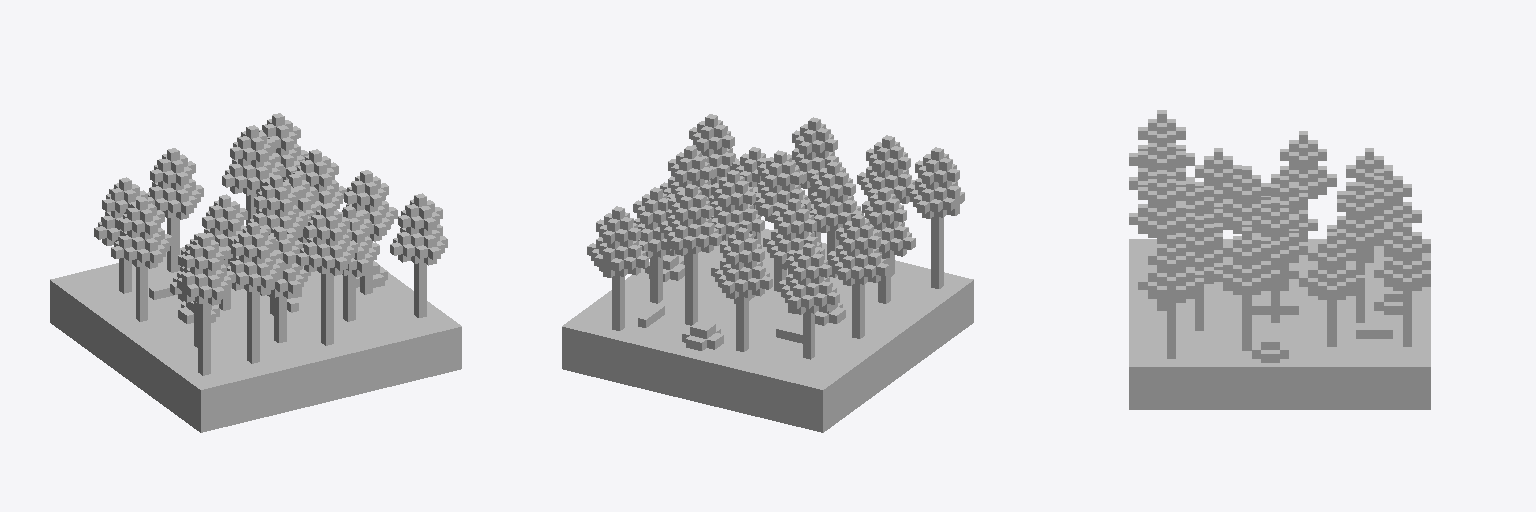
Rendered from Plaines Map-8.obj.
3 renders of one model, left to right at view 1: azimuth 30°, elevation 25°; view 2: azimuth 150°, elevation 25°; view 3: azimuth 270°, elevation 25°, orthographic.
Parts seen in each view (by area): view 1: object 1; view 2: object 1; view 3: object 1.
Boxes of the visible parts, x1,y1,x2,y2 form: object 1: [50, 113, 461, 432]; object 1: [562, 114, 973, 432]; object 1: [1129, 110, 1430, 409].
Bounding box in the file's own units: 3.2 × 2.1 × 3.2.